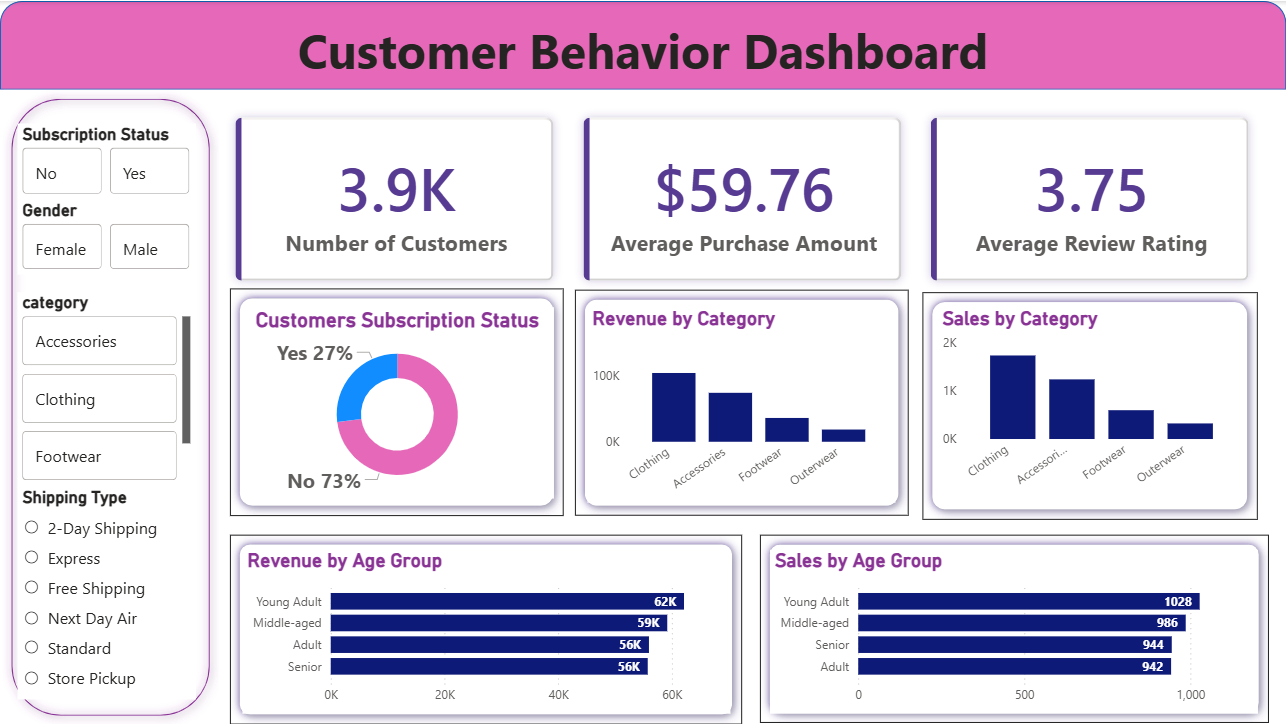

Layout of this report page (visuals, bound fields, positions):
{"tool":"powerbi","page":{"name":"Page 1","canvas":[1280,720],"ordinal":0},"visuals":[{"type":"cardVisual","fields":{"Data":["customers.Number of Customers","customers.Average Purchase Amount","customers.Average Review Rating"]},"box":[206.5,88.3,1064.8,218.9],"z":0},{"type":"shape","box":[0,0,1280,88.3],"z":1000},{"type":"textbox","box":[0,11.2,1280,77.1],"z":2000},{"type":"shape","box":[228.9,286.1,332.1,226.4],"z":3000},{"type":"donutChart","title":"Customers Subscription Status","fields":{"Category":["customers.subscription_status"],"Y":["CountNonNull(customers.customer_id)"]},"box":[240.1,304.8,311,190.3],"z":4000},{"type":"shape","box":[572.2,287.4,332.1,225.2],"z":5000},{"type":"clusteredColumnChart","title":"Revenue by Category","fields":{"Y":["Sum(customers.purchase_amount)"],"Category":["customers.category"]},"box":[584.7,304.8,306,194.1],"z":6000},{"type":"shape","box":[918,289.8,333.4,226.4],"z":7000},{"type":"clusteredColumnChart","title":"Sales by Category","fields":{"Category":["customers.category"],"Y":["CountNonNull(customers.customer_id)"]},"box":[933,304.8,304.8,190.3],"z":8000},{"type":"shape","box":[2.5,88.3,215.2,631.9],"z":9000},{"type":"advancedSlicerVisual","fields":{"Values":["customers.subscription_status"]},"box":[17.4,121.9,177.9,75.9],"z":10000},{"type":"advancedSlicerVisual","fields":{"Values":["customers.gender"]},"box":[17.4,197.8,177.9,74.6],"z":11000},{"type":"advancedSlicerVisual","fields":{"Values":["customers.category"]},"box":[17.4,289.8,177.9,194.1],"z":12000},{"type":"listSlicer","fields":{"Values":["customers.shipping_type"]},"box":[17.4,483.9,177.9,211.5],"z":13000},{"type":"shape","box":[228.6,531.3,509.9,189.2],"z":14000},{"type":"clusteredBarChart","title":"Revenue by Age Group","fields":{"Category":["customers.age_group"],"Y":["Sum(customers.purchase_amount)"]},"box":[241.8,546.1,485.2,162.8],"z":15000},{"type":"shape","box":[756.6,531.3,506.6,187.5],"z":16000},{"type":"clusteredBarChart","title":"Sales by Age Group","fields":{"Category":["customers.age_group"],"Y":["CountNonNull(customers.customer_id)"]},"box":[766.5,546.1,485.2,162.8],"z":17000}]}

Visuals, with their boxes in screenshot pixels (x1, y1, x2, y2), scaled from the page's 1280x720 canvas onto the 1286x724 screenshot:
cardVisual - customers.Number of Customers x customers.Average Purchase Amount: {"left": 207, "top": 89, "right": 1277, "bottom": 309}
shape: {"left": 0, "top": 0, "right": 1285, "bottom": 89}
textbox: {"left": 0, "top": 11, "right": 1285, "bottom": 89}
shape: {"left": 230, "top": 288, "right": 564, "bottom": 515}
"Customers Subscription Status" donutChart: {"left": 241, "top": 306, "right": 554, "bottom": 498}
shape: {"left": 575, "top": 289, "right": 909, "bottom": 515}
"Revenue by Category" clusteredColumnChart: {"left": 587, "top": 306, "right": 895, "bottom": 502}
shape: {"left": 922, "top": 291, "right": 1257, "bottom": 519}
"Sales by Category" clusteredColumnChart: {"left": 937, "top": 306, "right": 1244, "bottom": 498}
shape: {"left": 3, "top": 89, "right": 219, "bottom": 723}
advancedSlicerVisual - customers.subscription_status: {"left": 17, "top": 123, "right": 196, "bottom": 199}
advancedSlicerVisual - customers.gender: {"left": 17, "top": 199, "right": 196, "bottom": 274}
advancedSlicerVisual - customers.category: {"left": 17, "top": 291, "right": 196, "bottom": 487}
listSlicer - customers.shipping_type: {"left": 17, "top": 487, "right": 196, "bottom": 699}
shape: {"left": 230, "top": 534, "right": 742, "bottom": 723}
"Revenue by Age Group" clusteredBarChart: {"left": 243, "top": 549, "right": 730, "bottom": 713}
shape: {"left": 760, "top": 534, "right": 1269, "bottom": 723}
"Sales by Age Group" clusteredBarChart: {"left": 770, "top": 549, "right": 1258, "bottom": 713}
